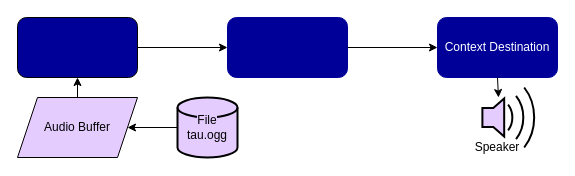
The diagram is 575 pixels wide and 176 high, and some of its shapes have lost their labels. The centre of each missing label's shape, as x and y in pixels:
Audio Buffer Input node: the point at 77,47
Stereo Panner Node: the point at 287,47
